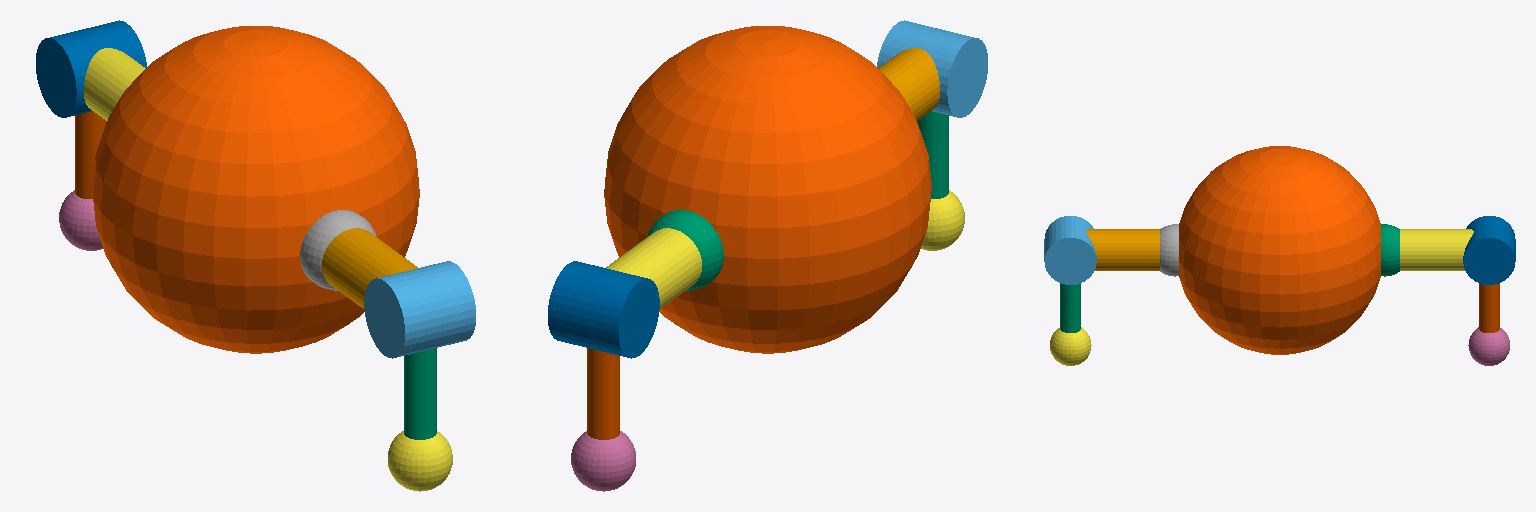
robot.urdf — centipede:
<?xml version="1.0" encoding="utf-8"?>
<!-- =================================================================================== -->
<!-- |    This document was autogenerated by xacro from [local-path]/Escritorio/TFM/Robominers/EAs/src/centipede_description/urdf/simplified_centipede.urdf.xacro | -->
<!-- |    EDITING THIS FILE BY HAND IS NOT RECOMMENDED                                 | -->
<!-- =================================================================================== -->
<!--  Centipede bot-->
<robot name="centipede">
  <!--  <!- - ros_control plugin - ->
  <gazebo>
    <plugin name="gazebo_ros_control" filename="libgazebo_ros_control.so">
      <robotNamespace>/centipede</robotNamespace>
      <robotSimType>gazebo_ros_control/DefaultRobotHWSim</robotSimType>
    </plugin>
  </gazebo>-->
  <!-- Link1 -->
  <gazebo reference="body1">
    <material>Gazebo/Orange</material>
  </gazebo>
  <!-- Link2 -->
  <gazebo reference="link2">
    <mu1>0.2</mu1>
    <mu2>0.2</mu2>
    <material>Gazebo/Black</material>
  </gazebo>
  <!-- Link3 -->
  <gazebo reference="link3">
    <mu1>0.2</mu1>
    <mu2>0.2</mu2>
    <material>Gazebo/Orange</material>
  </gazebo>
  <material name="black">
    <color rgba="0.0 0.0 0.0 1.0"/>
  </material>
  <material name="blue">
    <color rgba="0.0 0.0 0.8 1.0"/>
  </material>
  <material name="green">
    <color rgba="0.0 0.8 0.0 1.0"/>
  </material>
  <material name="grey">
    <color rgba="0.2 0.2 0.2 1.0"/>
  </material>
  <material name="orange">
    <color rgba="1.0 0.423529411765 0.0392156862745 1.0"/>
  </material>
  <material name="brown">
    <color rgba="0.870588235294 0.811764705882 0.764705882353 1.0"/>
  </material>
  <material name="red">
    <color rgba="0.8 0.0 0.0 1.0"/>
  </material>
  <material name="white">
    <color rgba="1.0 1.0 1.0 1.0"/>
  </material>
  <!-- Used for fixing robot to Gazebo 'base_link (frame reference)' -->
  <link name="base_link"/>
  <joint name="fixed" type="fixed">
    <parent link="base_link"/>
    <child link="body1"/>
  </joint>
  <!-- Base Link -->
  <!-- TODO: Generalize body1Origin -->
  <link name="body1">
    <collision>
      <origin rpy="0 0 0" xyz="0 0 0.4"/>
      <geometry>
        <sphere radius="0.1"/>
      </geometry>
    </collision>
    <visual>
      <origin rpy="0 0 0" xyz="0 0 0.4"/>
      <geometry>
        <sphere radius="0.1"/>
      </geometry>
      <material name="orange"/>
    </visual>
    <inertial>
      <origin rpy="0 0 0" xyz="0 0 0.4"/>
      <mass value="1"/>
      <inertia ixx="0.004" ixy="0" ixz="0" iyy="0.004" iyz="0" izz="0.004"/>
    </inertial>
  </link>
  <!--number : number of body ; lr: left, right -->
  <!--1st joint Body-Leg -->
  <joint name="hinge_left_1_1" type="revolute">
    <parent link="body1"/>
    <child link="base_left_1"/>
    <origin rpy="0 0 1.57079632679" xyz="0.0 0.1 0.4"/>
    <axis xyz="0 0 1"/>
    <limit effort="1000" lower="-0.3926875" upper="0.785" velocity="100.0"/>
  </joint>
  <!-- Leg base -->
  <link name="base_left_1">
    <visual>
      <geometry>
        <sphere radius="0.025"/>
      </geometry>
      <material name="Black"/>
    </visual>
    <collision>
      <origin rpy="0 0 0 " xyz="0 0 0"/>
      <geometry>
        <sphere radius="0.025"/>
      </geometry>
    </collision>
    <inertial>
      <origin xyz="0 0 0"/>
      <mass value="0.5"/>
      <inertia ixx="0.000125" ixy="0" ixz="0" iyy="0.000125" iyz="0" izz="0.000125"/>
    </inertial>
  </link>
  <!--2nd joint-->
  <joint name="hinge_left_1_2" type="revolute">
    <parent link="base_left_1"/>
    <child link="link_left_1_upper"/>
    <origin rpy="0 1.5707 0" xyz="0 0 0"/>
    <axis xyz="0 1 0"/>
    <limit effort="1000" lower="-0.1963" upper="0.1963" velocity="100.0"/>
  </joint>
  <!-- Femur -->
  <link name="link_left_1_upper">
    <inertial>
      <origin xyz="0 0 0.05"/>
      <mass value="2.0"/>
      <inertia ixx="0.00186666666667" ixy="0" ixz="0" iyy="0.00186666666667" iyz="0" izz="0.0004"/>
    </inertial>
    <collision>
      <origin rpy="0 0 0" xyz="0 0 0.05"/>
      <geometry>
        <cylinder length="0.1" radius="0.02"/>
      </geometry>
    </collision>
    <visual>
      <origin rpy="0 0 0" xyz="0 0 0.05"/>
      <geometry>
        <cylinder length="0.1" radius="0.02"/>
      </geometry>
      <material name="Gray"/>
    </visual>
  </link>
  <joint name="serbo_left_1_joint" type="fixed">
    <parent link="link_left_1_upper"/>
    <child link="serbo_left_1"/>
    <origin rpy="1.5707 0 0" xyz="0 0 0.1"/>
  </joint>
  <link name="serbo_left_1">
    <visual>
      <geometry>
        <cylinder length="0.05" radius="0.025"/>
      </geometry>
      <material name="Black"/>
    </visual>
    <collision>
      <origin rpy="0 0 0 " xyz="0 0 0"/>
      <geometry>
        <cylinder length="0.05" radius="0.025"/>
      </geometry>
    </collision>
    <inertial>
      <origin xyz="0 0 0"/>
      <mass value="0.5"/>
      <inertia ixx="0.000182291666667" ixy="0" ixz="0" iyy="0.000182291666667" iyz="0" izz="0.00015625"/>
    </inertial>
  </link>
  <!--3rd joint: Upper-Lower -->
  <joint name="hinge_left_1_3" type="revolute">
    <parent link="serbo_left_1"/>
    <child link="link_left_1_lower"/>
    <origin rpy="0 1.5707 0" xyz="0 0 0"/>
    <axis xyz="1 0 0"/>
    <limit effort="1000" lower="-0.785" upper="0.785" velocity="100.0"/>
  </joint>
  <link name="link_left_1_lower">
    <inertial>
      <origin xyz="0 0 0.05"/>
      <mass value="2.0"/>
      <inertia ixx="0.00171666666667" ixy="0" ixz="0" iyy="0.00171666666667" iyz="0" izz="0.0001"/>
    </inertial>
    <collision>
      <origin rpy="0 0 0" xyz="0 0 0.05"/>
      <geometry>
        <cylinder length="0.1" radius="0.01"/>
      </geometry>
    </collision>
    <visual>
      <origin rpy="0 0 0" xyz="0 0 0.05"/>
      <geometry>
        <cylinder length="0.1" radius="0.01"/>
      </geometry>
      <material name="Gray"/>
    </visual>
  </link>
  <link name="ball_left_1">
    <visual>
      <geometry>
        <sphere radius="0.02"/>
      </geometry>
      <material name="Black"/>
    </visual>
    <collision>
      <origin rpy="0 0 0 " xyz="0 0 0"/>
      <geometry>
        <sphere radius="0.02"/>
      </geometry>
    </collision>
    <inertial>
      <origin xyz="0 0 0"/>
      <mass value="0.02"/>
      <inertia ixx="3.2e-06" ixy="0" ixz="0" iyy="3.2e-06" iyz="0" izz="3.2e-06"/>
    </inertial>
  </link>
  <joint name="ball_left_1_joint" type="fixed">
    <parent link="link_left_1_lower"/>
    <child link="ball_left_1"/>
    <origin rpy="0 0 0" xyz="0 0 0.1"/>
  </joint>
  <!--joint-->
  <!-- =========gazebo reference============ -->
  <gazebo reference="base_left_1">
    <selfCollide value="false"/>
    <material>Gazebo/Black</material>
    <turnGravityOff>false</turnGravityOff>
  </gazebo>
  <gazebo reference="link_left_1_lower">
    <selfCollide value="false"/>
    <mu1 value="10000.0"/>
    <mu2 value="10000.0"/>
    <kp value="10000000.0"/>
    <kd value="1.0"/>
    <fdir1 value="1 0 0"/>
    <material>Gazebo/Gray</material>
    <turnGravityOff>false</turnGravityOff>
  </gazebo>
  <gazebo reference="link_left_1_upper">
    <selfCollide value="false"/>
    <mu1 value="10000.0"/>
    <mu2 value="10000.0"/>
    <kp value="10000000.0"/>
    <kd value="1.0"/>
    <fdir1 value="1 0 0"/>
    <material>Gazebo/Gray</material>
    <turnGravityOff>false</turnGravityOff>
  </gazebo>
  <gazebo reference="ball_left_1">
    <selfCollide value="false"/>
    <mu1 value="10000.0"/>
    <mu2 value="10000.0"/>
    <kp value="10000000.0"/>
    <kd value="1.0"/>
    <fdir1 value="1 0 0"/>
    <material>Gazebo/Black</material>
    <turnGravityOff>false</turnGravityOff>
  </gazebo>
  <gazebo reference="serbo_left_1">
    <selfCollide value="false"/>
    <mu1 value="10000.0"/>
    <mu2 value="10000.0"/>
    <kp value="10000000.0"/>
    <kd value="1.0"/>
    <fdir1 value="1 0 0"/>
    <material>Gazebo/Black</material>
    <turnGravityOff>false</turnGravityOff>
  </gazebo>
  <!-- Transmission is important to link the joints and the controller -->
  <transmission name="hinge_left_1_1_trans">
    <type>transmission_interface/SimpleTransmission</type>
    <joint name="hinge_left_1_1">
      <hardwareInterface>hardware_interface/EffortJointInterface</hardwareInterface>
    </joint>
    <actuator name="hinge_left_1_1_motor">
      <mechanicalReduction>1</mechanicalReduction>
    </actuator>
  </transmission>
  <transmission name="hinge_left_1_2_trans">
    <type>transmission_interface/SimpleTransmission</type>
    <joint name="hinge_left_1_2">
      <hardwareInterface>hardware_interface/EffortJointInterface</hardwareInterface>
    </joint>
    <actuator name="hinge_left_1_2_motor">
      <mechanicalReduction>1</mechanicalReduction>
    </actuator>
  </transmission>
  <transmission name="hinge_left_1_3_trans">
    <type>transmission_interface/SimpleTransmission</type>
    <joint name="hinge_left_1_3">
      <hardwareInterface>hardware_interface/EffortJointInterface</hardwareInterface>
    </joint>
    <actuator name="hinge_left_1_3_motor">
      <mechanicalReduction>1</mechanicalReduction>
    </actuator>
  </transmission>
  <!--number : number of body ; lr: left, right -->
  <!--1st joint Body-Leg -->
  <joint name="hinge_right_1_1" type="revolute">
    <parent link="body1"/>
    <child link="base_right_1"/>
    <origin rpy="0 0 4.71238898038" xyz="0.0 -0.1 0.4"/>
    <axis xyz="0 0 1"/>
    <limit effort="1000" lower="-0.3926875" upper="0.785" velocity="100.0"/>
  </joint>
  <!-- Leg base -->
  <link name="base_right_1">
    <visual>
      <geometry>
        <sphere radius="0.025"/>
      </geometry>
      <material name="Black"/>
    </visual>
    <collision>
      <origin rpy="0 0 0 " xyz="0 0 0"/>
      <geometry>
        <sphere radius="0.025"/>
      </geometry>
    </collision>
    <inertial>
      <origin xyz="0 0 0"/>
      <mass value="0.5"/>
      <inertia ixx="0.000125" ixy="0" ixz="0" iyy="0.000125" iyz="0" izz="0.000125"/>
    </inertial>
  </link>
  <!--2nd joint-->
  <joint name="hinge_right_1_2" type="revolute">
    <parent link="base_right_1"/>
    <child link="link_right_1_upper"/>
    <origin rpy="0 1.5707 0" xyz="0 0 0"/>
    <axis xyz="0 1 0"/>
    <limit effort="1000" lower="-0.1963" upper="0.1963" velocity="100.0"/>
  </joint>
  <!-- Femur -->
  <link name="link_right_1_upper">
    <inertial>
      <origin xyz="0 0 0.05"/>
      <mass value="2.0"/>
      <inertia ixx="0.00186666666667" ixy="0" ixz="0" iyy="0.00186666666667" iyz="0" izz="0.0004"/>
    </inertial>
    <collision>
      <origin rpy="0 0 0" xyz="0 0 0.05"/>
      <geometry>
        <cylinder length="0.1" radius="0.02"/>
      </geometry>
    </collision>
    <visual>
      <origin rpy="0 0 0" xyz="0 0 0.05"/>
      <geometry>
        <cylinder length="0.1" radius="0.02"/>
      </geometry>
      <material name="Gray"/>
    </visual>
  </link>
  <joint name="serbo_right_1_joint" type="fixed">
    <parent link="link_right_1_upper"/>
    <child link="serbo_right_1"/>
    <origin rpy="1.5707 0 0" xyz="0 0 0.1"/>
  </joint>
  <link name="serbo_right_1">
    <visual>
      <geometry>
        <cylinder length="0.05" radius="0.025"/>
      </geometry>
      <material name="Black"/>
    </visual>
    <collision>
      <origin rpy="0 0 0 " xyz="0 0 0"/>
      <geometry>
        <cylinder length="0.05" radius="0.025"/>
      </geometry>
    </collision>
    <inertial>
      <origin xyz="0 0 0"/>
      <mass value="0.5"/>
      <inertia ixx="0.000182291666667" ixy="0" ixz="0" iyy="0.000182291666667" iyz="0" izz="0.00015625"/>
    </inertial>
  </link>
  <!--3rd joint: Upper-Lower -->
  <joint name="hinge_right_1_3" type="revolute">
    <parent link="serbo_right_1"/>
    <child link="link_right_1_lower"/>
    <origin rpy="0 1.5707 0" xyz="0 0 0"/>
    <axis xyz="1 0 0"/>
    <limit effort="1000" lower="-0.785" upper="0.785" velocity="100.0"/>
  </joint>
  <link name="link_right_1_lower">
    <inertial>
      <origin xyz="0 0 0.05"/>
      <mass value="2.0"/>
      <inertia ixx="0.00171666666667" ixy="0" ixz="0" iyy="0.00171666666667" iyz="0" izz="0.0001"/>
    </inertial>
    <collision>
      <origin rpy="0 0 0" xyz="0 0 0.05"/>
      <geometry>
        <cylinder length="0.1" radius="0.01"/>
      </geometry>
    </collision>
    <visual>
      <origin rpy="0 0 0" xyz="0 0 0.05"/>
      <geometry>
        <cylinder length="0.1" radius="0.01"/>
      </geometry>
      <material name="Gray"/>
    </visual>
  </link>
  <link name="ball_right_1">
    <visual>
      <geometry>
        <sphere radius="0.02"/>
      </geometry>
      <material name="Black"/>
    </visual>
    <collision>
      <origin rpy="0 0 0 " xyz="0 0 0"/>
      <geometry>
        <sphere radius="0.02"/>
      </geometry>
    </collision>
    <inertial>
      <origin xyz="0 0 0"/>
      <mass value="0.02"/>
      <inertia ixx="3.2e-06" ixy="0" ixz="0" iyy="3.2e-06" iyz="0" izz="3.2e-06"/>
    </inertial>
  </link>
  <joint name="ball_right_1_joint" type="fixed">
    <parent link="link_right_1_lower"/>
    <child link="ball_right_1"/>
    <origin rpy="0 0 0" xyz="0 0 0.1"/>
  </joint>
  <!--joint-->
  <!-- =========gazebo reference============ -->
  <gazebo reference="base_right_1">
    <selfCollide value="false"/>
    <material>Gazebo/Black</material>
    <turnGravityOff>false</turnGravityOff>
  </gazebo>
  <gazebo reference="link_right_1_lower">
    <selfCollide value="false"/>
    <mu1 value="10000.0"/>
    <mu2 value="10000.0"/>
    <kp value="10000000.0"/>
    <kd value="1.0"/>
    <fdir1 value="1 0 0"/>
    <material>Gazebo/Gray</material>
    <turnGravityOff>false</turnGravityOff>
  </gazebo>
  <gazebo reference="link_right_1_upper">
    <selfCollide value="false"/>
    <mu1 value="10000.0"/>
    <mu2 value="10000.0"/>
    <kp value="10000000.0"/>
    <kd value="1.0"/>
    <fdir1 value="1 0 0"/>
    <material>Gazebo/Gray</material>
    <turnGravityOff>false</turnGravityOff>
  </gazebo>
  <gazebo reference="ball_right_1">
    <selfCollide value="false"/>
    <mu1 value="10000.0"/>
    <mu2 value="10000.0"/>
    <kp value="10000000.0"/>
    <kd value="1.0"/>
    <fdir1 value="1 0 0"/>
    <material>Gazebo/Black</material>
    <turnGravityOff>false</turnGravityOff>
  </gazebo>
  <gazebo reference="serbo_right_1">
    <selfCollide value="false"/>
    <mu1 value="10000.0"/>
    <mu2 value="10000.0"/>
    <kp value="10000000.0"/>
    <kd value="1.0"/>
    <fdir1 value="1 0 0"/>
    <material>Gazebo/Black</material>
    <turnGravityOff>false</turnGravityOff>
  </gazebo>
  <!-- Transmission is important to link the joints and the controller -->
  <transmission name="hinge_right_1_1_trans">
    <type>transmission_interface/SimpleTransmission</type>
    <joint name="hinge_right_1_1">
      <hardwareInterface>hardware_interface/EffortJointInterface</hardwareInterface>
    </joint>
    <actuator name="hinge_right_1_1_motor">
      <mechanicalReduction>1</mechanicalReduction>
    </actuator>
  </transmission>
  <transmission name="hinge_right_1_2_trans">
    <type>transmission_interface/SimpleTransmission</type>
    <joint name="hinge_right_1_2">
      <hardwareInterface>hardware_interface/EffortJointInterface</hardwareInterface>
    </joint>
    <actuator name="hinge_right_1_2_motor">
      <mechanicalReduction>1</mechanicalReduction>
    </actuator>
  </transmission>
  <transmission name="hinge_right_1_3_trans">
    <type>transmission_interface/SimpleTransmission</type>
    <joint name="hinge_right_1_3">
      <hardwareInterface>hardware_interface/EffortJointInterface</hardwareInterface>
    </joint>
    <actuator name="hinge_right_1_3_motor">
      <mechanicalReduction>1</mechanicalReduction>
    </actuator>
  </transmission>
</robot>

--- What the picture shows (computed from the rendered views, not written in the file) ---
The picture shows the robot from 3 angles, left to right: view 1: azimuth 30°, elevation 25°; view 2: azimuth 150°, elevation 25°; view 3: azimuth 270°, elevation 25°; orthographic projection.
Model centipede with 12 links and 11 joints (6 revolute, 5 fixed), rooted at base_link, posed all joints at 0.
Visible links, largest first — view 1: body1, serbo_right_1, serbo_left_1, link_right_1_upper, ball_right_1, link_right_1_lower, link_left_1_upper, base_right_1, link_left_1_lower, ball_left_1; view 2: body1, serbo_left_1, serbo_right_1, link_left_1_upper, ball_left_1, link_left_1_lower, link_right_1_upper, base_left_1, link_right_1_lower, ball_right_1; view 3: body1, serbo_left_1, serbo_right_1, link_left_1_upper, link_right_1_upper, ball_left_1, ball_right_1, link_left_1_lower, link_right_1_lower, base_left_1, base_right_1.
Link boxes in pixels (x1=…): body1: x1=92, y1=26, x2=419, y2=353; serbo_right_1: x1=364, y1=261, x2=475, y2=358; serbo_left_1: x1=36, y1=20, x2=146, y2=117; link_right_1_upper: x1=322, y1=228, x2=417, y2=308; ball_right_1: x1=388, y1=431, x2=452, y2=491; link_right_1_lower: x1=404, y1=348, x2=436, y2=439; link_left_1_upper: x1=84, y1=48, x2=145, y2=120; base_right_1: x1=300, y1=210, x2=376, y2=290; link_left_1_lower: x1=75, y1=111, x2=106, y2=198; ball_left_1: x1=59, y1=190, x2=102, y2=250; body1: x1=604, y1=26, x2=931, y2=353; serbo_left_1: x1=548, y1=261, x2=659, y2=358; serbo_right_1: x1=877, y1=20, x2=987, y2=117; link_left_1_upper: x1=606, y1=228, x2=701, y2=308; ball_left_1: x1=571, y1=431, x2=635, y2=491; link_left_1_lower: x1=587, y1=348, x2=619, y2=439; link_right_1_upper: x1=878, y1=48, x2=939, y2=120; base_left_1: x1=647, y1=210, x2=723, y2=290; link_right_1_lower: x1=917, y1=111, x2=948, y2=198; ball_right_1: x1=921, y1=190, x2=964, y2=250; body1: x1=1179, y1=146, x2=1380, y2=354; serbo_left_1: x1=1463, y1=216, x2=1515, y2=284; serbo_right_1: x1=1044, y1=216, x2=1096, y2=284; link_left_1_upper: x1=1400, y1=229, x2=1473, y2=270; link_right_1_upper: x1=1086, y1=229, x2=1159, y2=270; ball_left_1: x1=1468, y1=327, x2=1509, y2=365; ball_right_1: x1=1050, y1=327, x2=1091, y2=365; link_left_1_lower: x1=1479, y1=283, x2=1499, y2=332; link_right_1_lower: x1=1060, y1=283, x2=1080, y2=332; base_left_1: x1=1381, y1=224, x2=1399, y2=276; base_right_1: x1=1160, y1=224, x2=1178, y2=276.
Bounding box of the posed robot: 0.2 × 0.45 × 0.22 m (x, y, z).
Geometry: primitives only (box / cylinder / sphere), no mesh files.